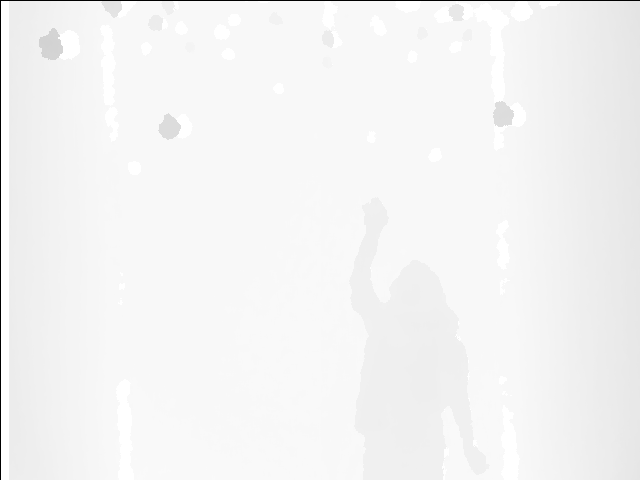hand: (361, 195, 388, 242)
